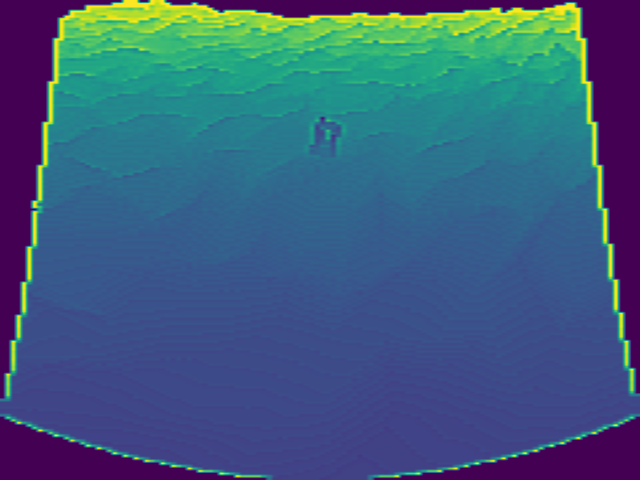car_0198: (310, 114, 341, 156)
